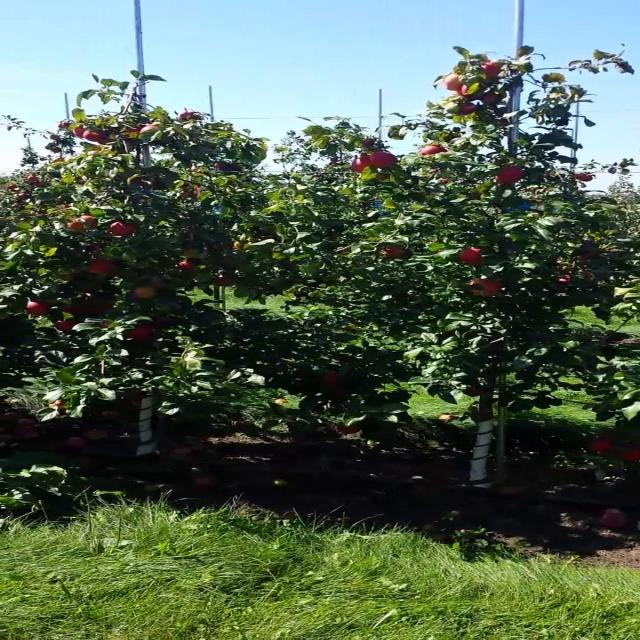apple: (469, 278, 502, 297), (493, 166, 524, 185), (378, 244, 409, 260), (369, 151, 398, 168), (127, 324, 156, 341), (613, 444, 640, 461), (87, 259, 116, 274), (84, 299, 113, 314), (458, 248, 482, 266), (129, 174, 159, 188), (178, 181, 202, 198), (109, 221, 136, 236), (27, 300, 51, 316), (589, 438, 613, 454), (131, 286, 158, 300), (82, 129, 109, 143), (480, 61, 502, 78), (440, 74, 460, 91), (351, 155, 371, 172), (176, 110, 204, 122), (480, 91, 504, 105), (351, 155, 371, 171), (418, 144, 447, 155), (458, 82, 480, 96), (78, 215, 96, 229), (56, 320, 78, 331), (176, 260, 198, 271), (138, 124, 160, 135), (458, 102, 478, 114), (333, 424, 357, 434), (49, 399, 67, 412), (151, 316, 169, 329), (322, 371, 338, 385), (60, 304, 82, 314), (120, 128, 140, 139), (573, 172, 596, 181), (328, 385, 345, 397), (67, 219, 84, 231), (213, 275, 231, 286), (182, 248, 200, 259), (556, 274, 573, 285), (60, 271, 78, 281), (149, 278, 164, 289), (464, 388, 484, 396), (71, 125, 84, 137), (98, 321, 113, 329)
